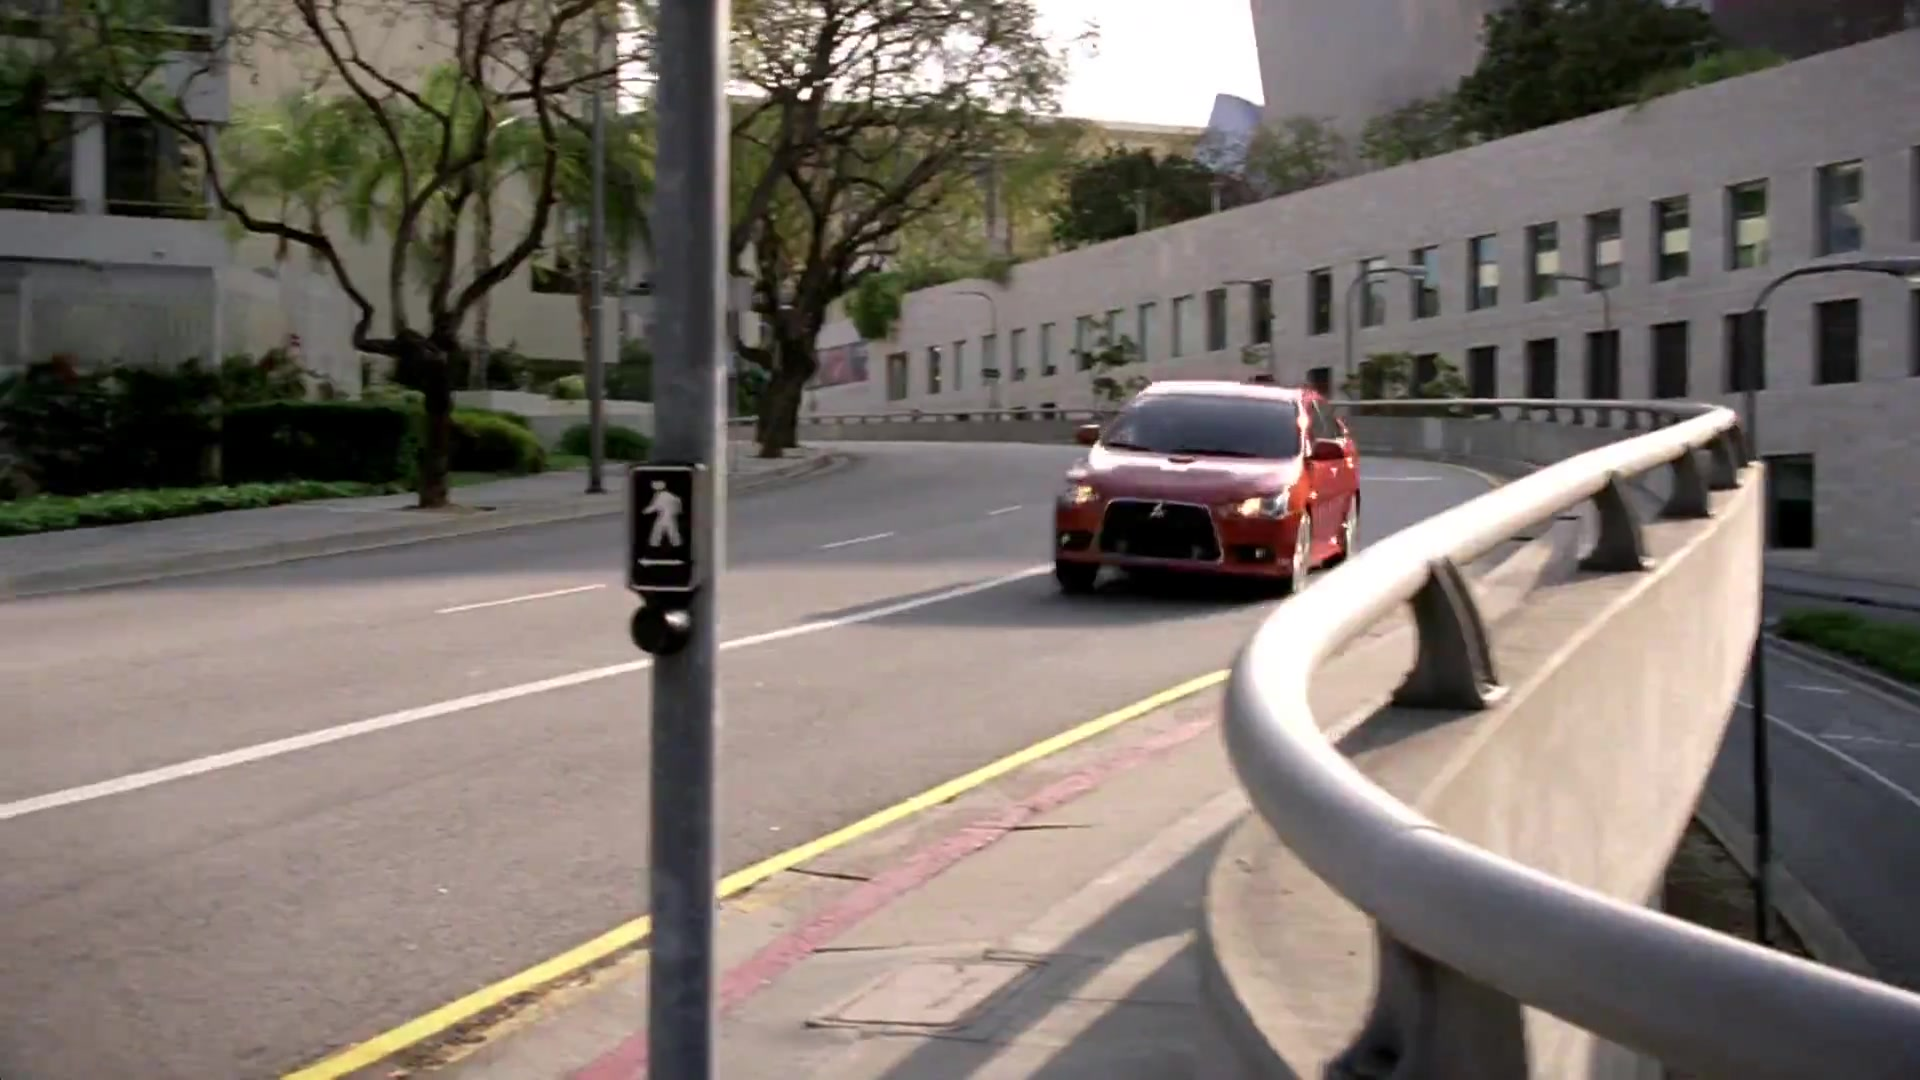car: (1054, 373, 1371, 596)
